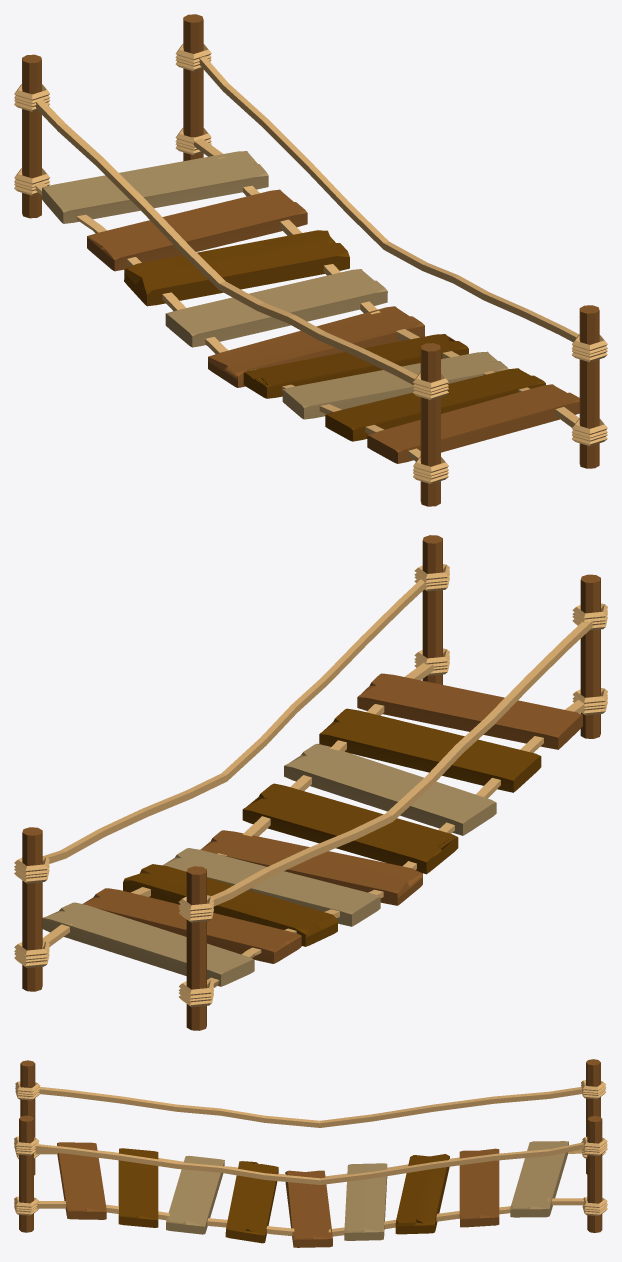
Rendered from PONTE.fbx.
3 views of the same model, one above another, from view 1: azimuth 30°, elevation 25°; view 2: azimuth 150°, elevation 25°; view 3: azimuth 270°, elevation 25° (orthographic). The views are drawn at different scales.
Visible parts, largest first — view 1: Cube.007, Cube.009, Cube.008, Cube.006, Cube.001, Cube.005, Cube.013, Cube.003, Cube.002, Cube.012, Cube.004, Circle (+9 smaller); view 2: Cube.002, Cube.004, Cube.001, Cube.003, Cube.009, Cube.005, Cube.013, Cube.008, Cube.007, Cube.006, Cube.012, Circle.002 (+9 smaller); view 3: Cube.013, Cube.012, Cube.007, Cube.004, Cube.003, Cube.009, Cube.001, Cube.002, Cube.005, Cube.008, Cube.006, Cube.010 (+11 smaller).
Boxes of the visible parts, x1=… form: Cube.007: x1=124, y1=230, x2=349, y2=306; Cube.009: x1=42, y1=151, x2=268, y2=223; Cube.008: x1=87, y1=189, x2=307, y2=271; Cube.006: x1=165, y1=269, x2=387, y2=347; Cube.001: x1=367, y1=384, x2=579, y2=463; Cube.005: x1=208, y1=306, x2=424, y2=387; Cube.013: x1=35, y1=100, x2=417, y2=384; Cube.003: x1=282, y1=351, x2=508, y2=419; Cube.002: x1=325, y1=368, x2=545, y2=441; Cube.012: x1=199, y1=56, x2=578, y2=341; Cube.004: x1=243, y1=334, x2=468, y2=398; Circle: x1=420, y1=343, x2=440, y2=506; Cube.002: x1=319, y1=708, x2=541, y2=792; Cube.004: x1=242, y1=783, x2=458, y2=874; Cube.001: x1=357, y1=673, x2=582, y2=749; Cube.003: x1=284, y1=743, x2=496, y2=835; Cube.009: x1=42, y1=902, x2=254, y2=986; Cube.005: x1=200, y1=830, x2=422, y2=905; Cube.013: x1=211, y1=621, x2=592, y2=906; Cube.008: x1=82, y1=888, x2=301, y2=963; Cube.007: x1=123, y1=864, x2=337, y2=946; Cube.006: x1=162, y1=848, x2=380, y2=926; Cube.012: x1=43, y1=579, x2=425, y2=863; Circle.002: x1=22, y1=827, x2=42, y2=991; Cube.013: x1=39, y1=1087, x2=582, y2=1127; Cube.012: x1=35, y1=1142, x2=583, y2=1184; Cube.007: x1=395, y1=1154, x2=449, y2=1234; Cube.004: x1=225, y1=1161, x2=278, y2=1243; Cube.003: x1=166, y1=1155, x2=224, y2=1234; Cube.009: x1=510, y1=1141, x2=568, y2=1217; Cube.001: x1=57, y1=1142, x2=106, y2=1219; Cube.002: x1=118, y1=1148, x2=158, y2=1227; Cube.005: x1=285, y1=1170, x2=332, y2=1247; Cube.008: x1=459, y1=1148, x2=499, y2=1227; Cube.006: x1=344, y1=1163, x2=387, y2=1240; Cube.010: x1=36, y1=1198, x2=587, y2=1236.
Bounding box in the file's own units: 11.04 × 8.92 × 39.46.
